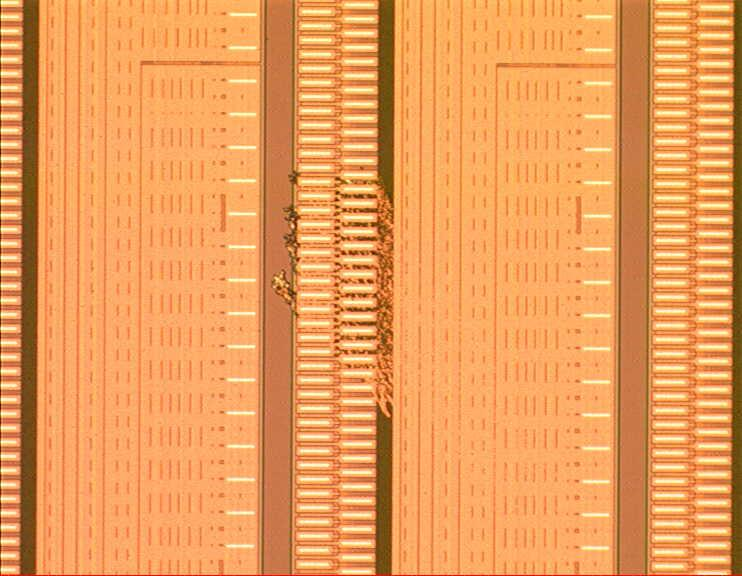BLOCK ETCH: (273, 160, 396, 423)
